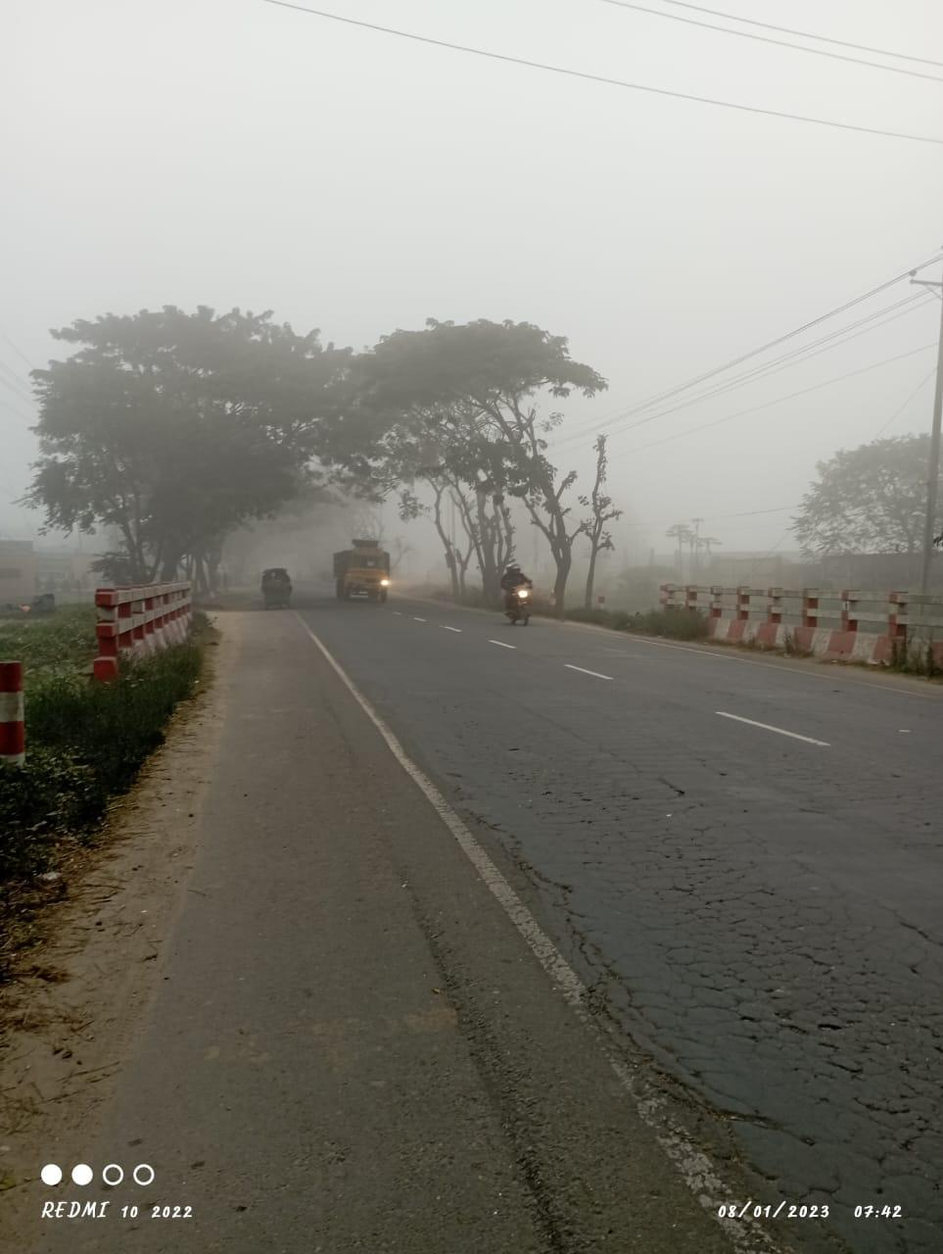Bike: (490, 556, 550, 639)
Car: (253, 559, 302, 615)
Truck: (325, 532, 398, 606)
